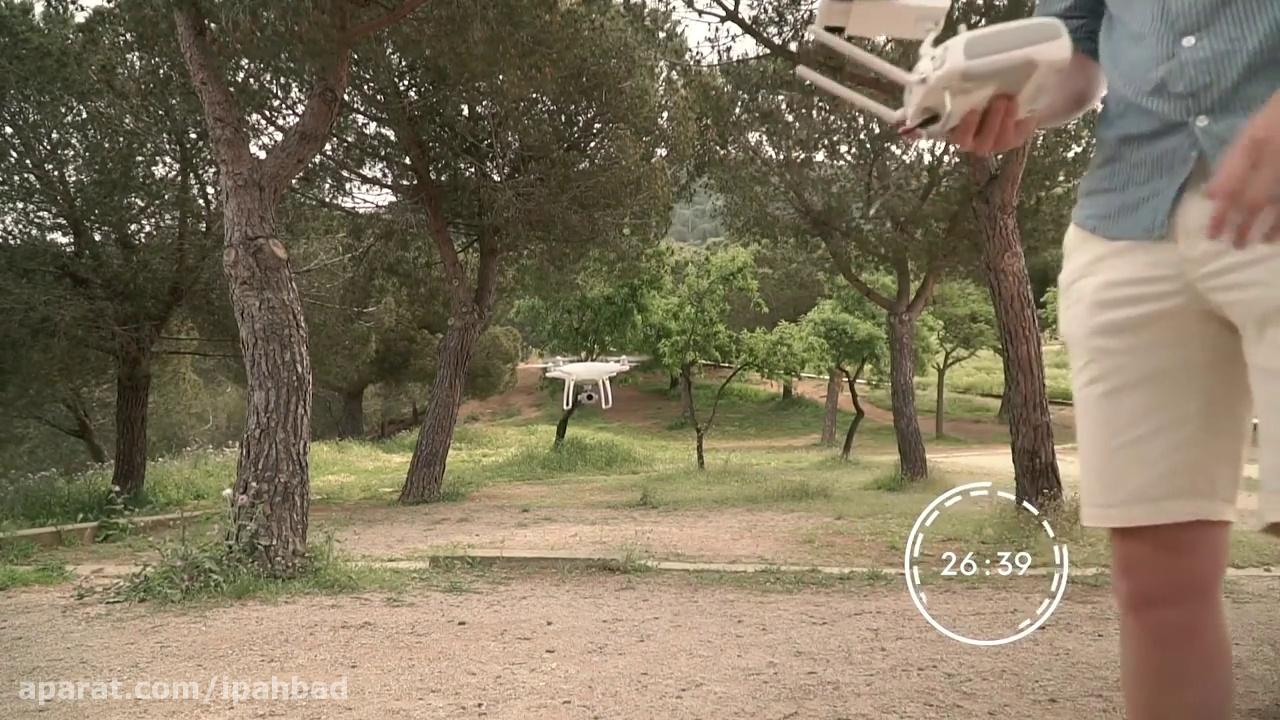drone: (527, 349, 652, 417)
